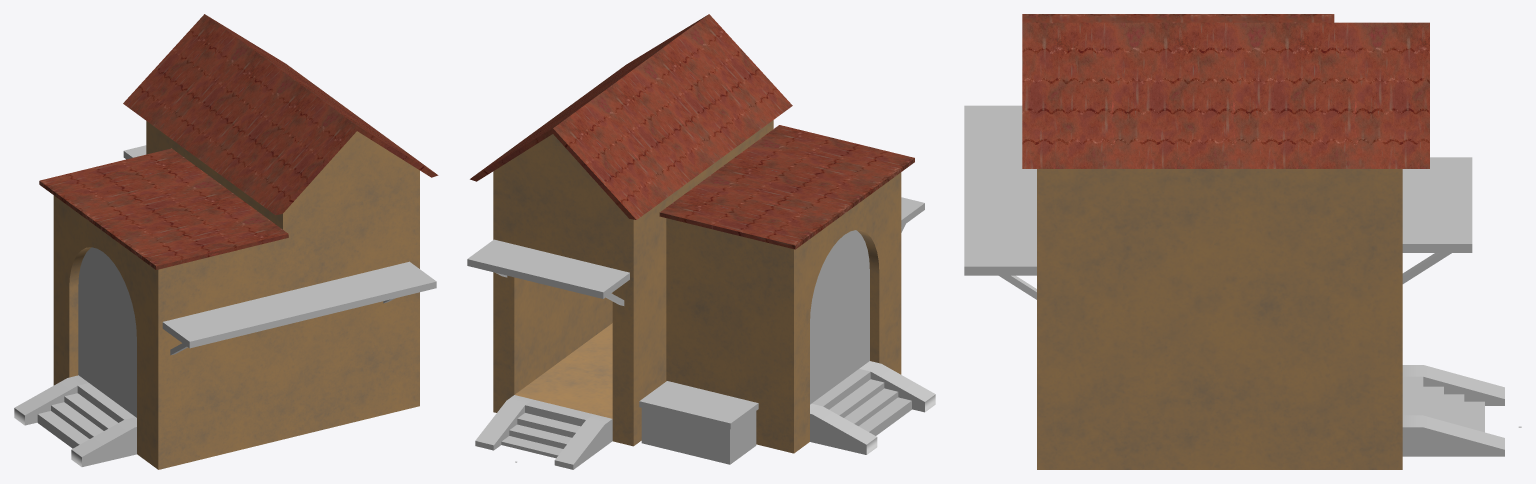
The model's file is Warehouse.fbx.
3 views of the same model, side by side, from view 1: azimuth 30°, elevation 25°; view 2: azimuth 150°, elevation 25°; view 3: azimuth 270°, elevation 25° (orthographic). The views are drawn at different scales.
Parts seen in each view (by area): view 1: Warehouse; view 2: Warehouse; view 3: Warehouse.
Part boxes in pixels (box(x1,y1,x2,y2)): Warehouse: box(14, 14, 438, 469); Warehouse: box(467, 14, 935, 469); Warehouse: box(964, 14, 1521, 469).
Bounding box in the file's own units: 1.81 × 1.59 × 1.99.
